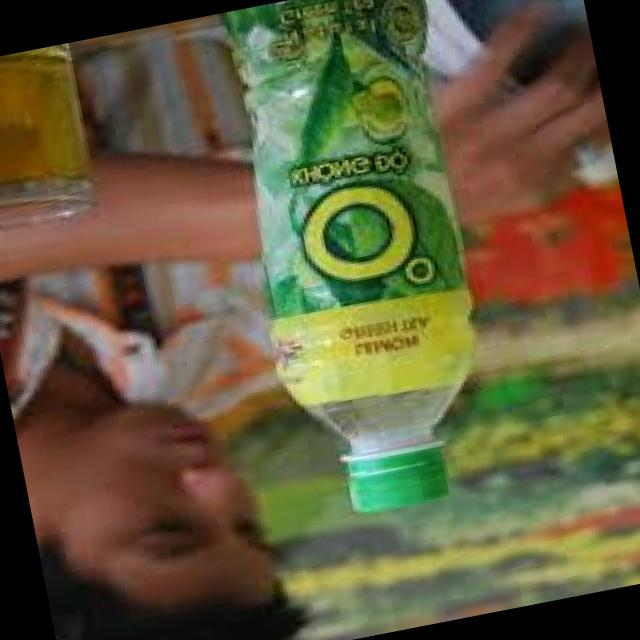tra xanh khong do: (199, 0, 544, 534)
